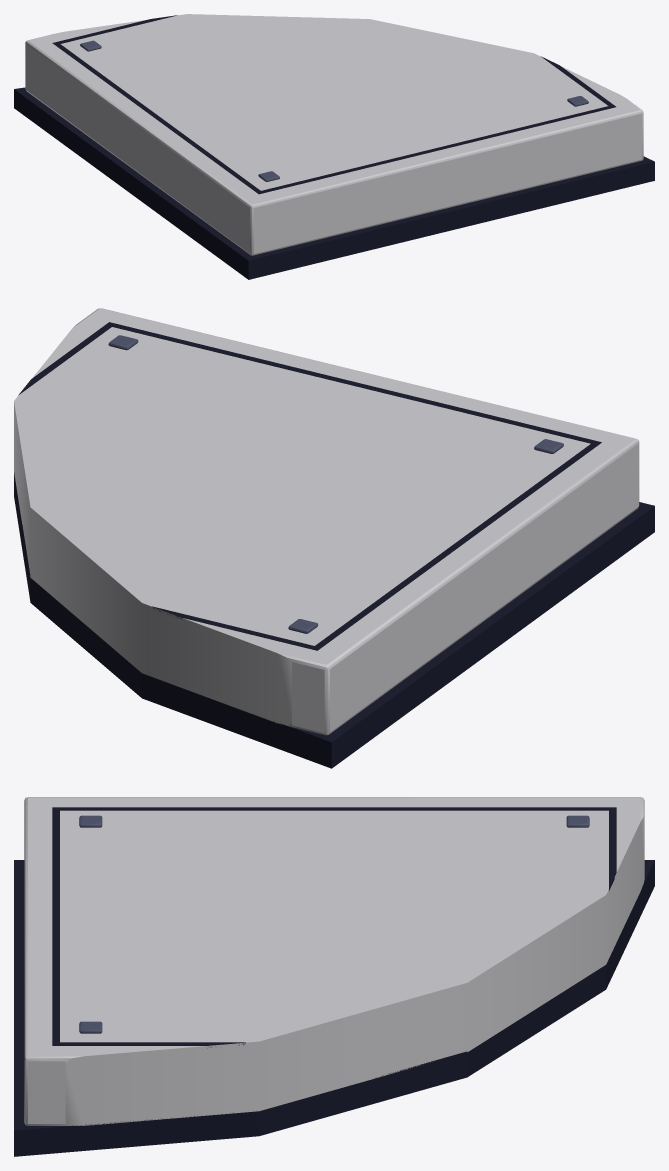
The model's file is roof.arc1.light.glb.
3 views of the same model, one above another, from view 1: azimuth 30°, elevation 25°; view 2: azimuth 150°, elevation 25°; view 3: azimuth 270°, elevation 25° (orthographic). The views are drawn at different scales.
Visible parts, largest first — view 1: GEO-roof.arc1.light; view 2: GEO-roof.arc1.light; view 3: GEO-roof.arc1.light.
Part boxes in pixels (x1,y1,x2,y2): GEO-roof.arc1.light: (14, 14, 654, 279); GEO-roof.arc1.light: (14, 308, 654, 768); GEO-roof.arc1.light: (14, 797, 654, 1156).
Size of the model in its own units: 1 by 0.17 by 1.
